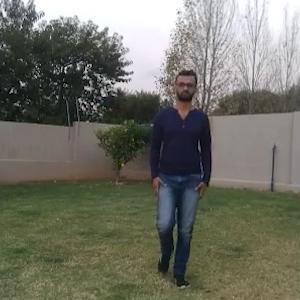follow: (154, 79, 203, 273)
